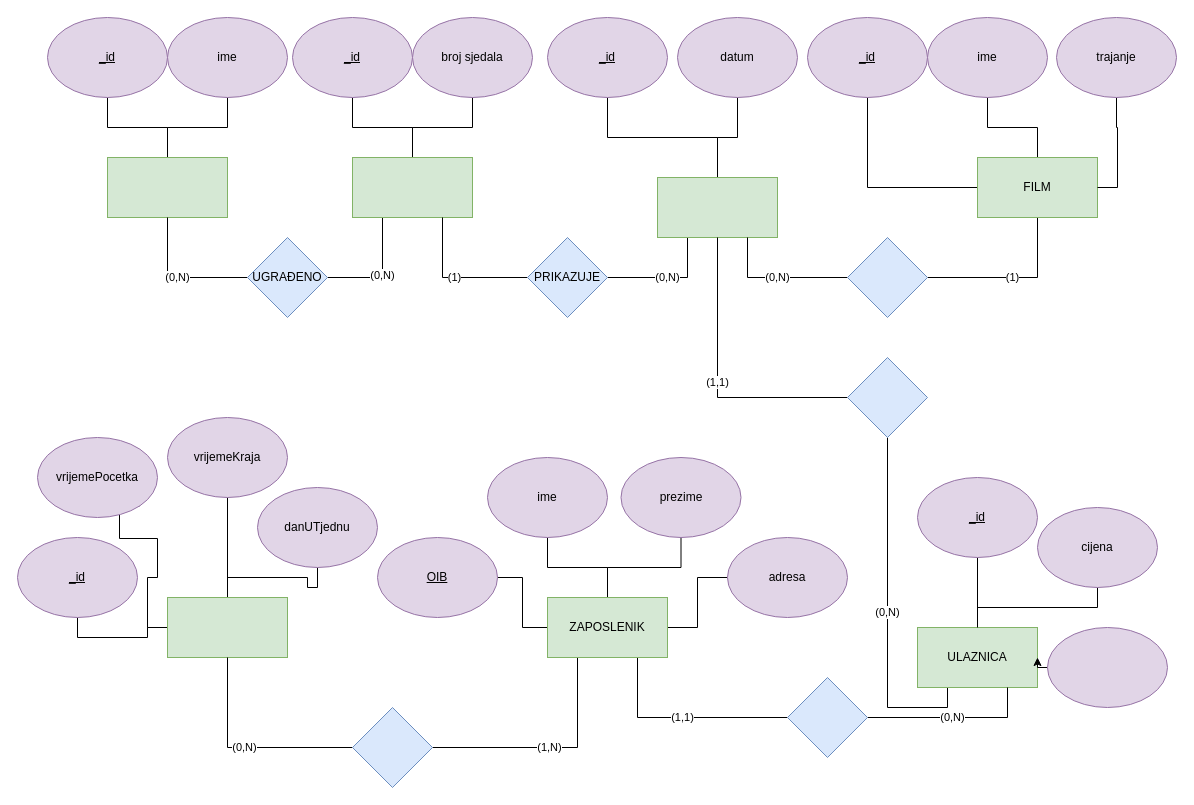
Some shapes in this 1194 by 805 pixel diagram are drawn without their labels. Each missing label, with the centre of its shape:
"DVORANA" belongs at (x=412, y=187).
"IZDAJE" belongs at (x=827, y=717).
"izdano" belongs at (x=1107, y=667).
"ODRZAVA" belongs at (x=887, y=277).
"RADI" belongs at (x=392, y=747).
"SMJENA" belongs at (x=227, y=627).
"TEHNOLOGIJA" belongs at (x=167, y=187).
"TERMIN" belongs at (x=717, y=207).
"VRIJEDI" belongs at (x=887, y=397).
